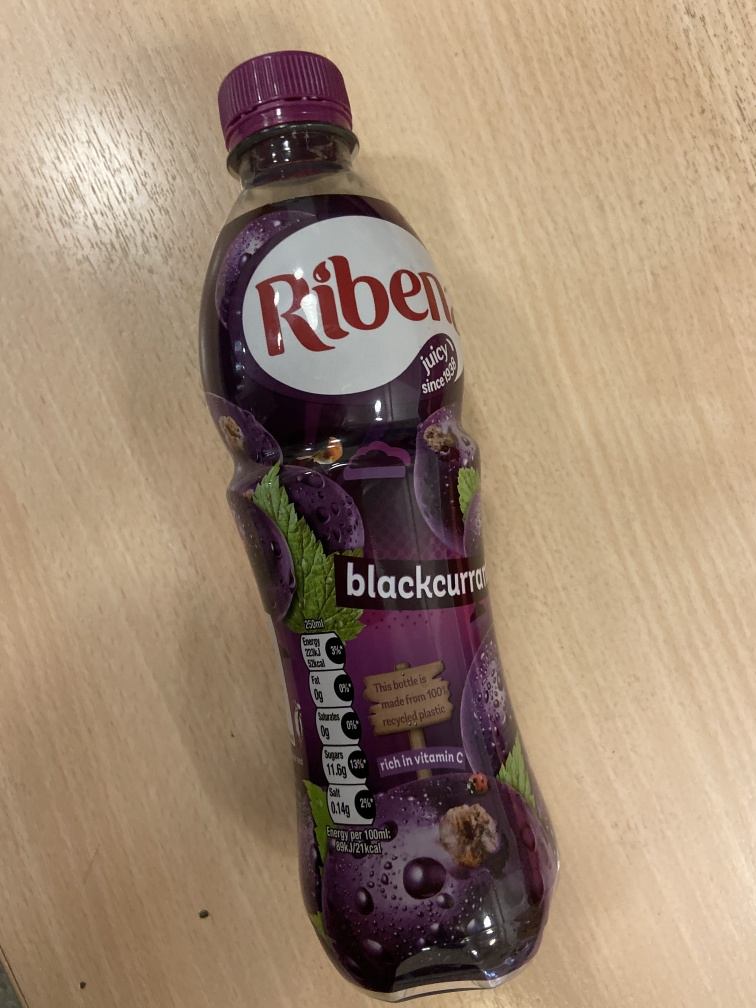bottle_purple: (190, 47, 567, 1004)
